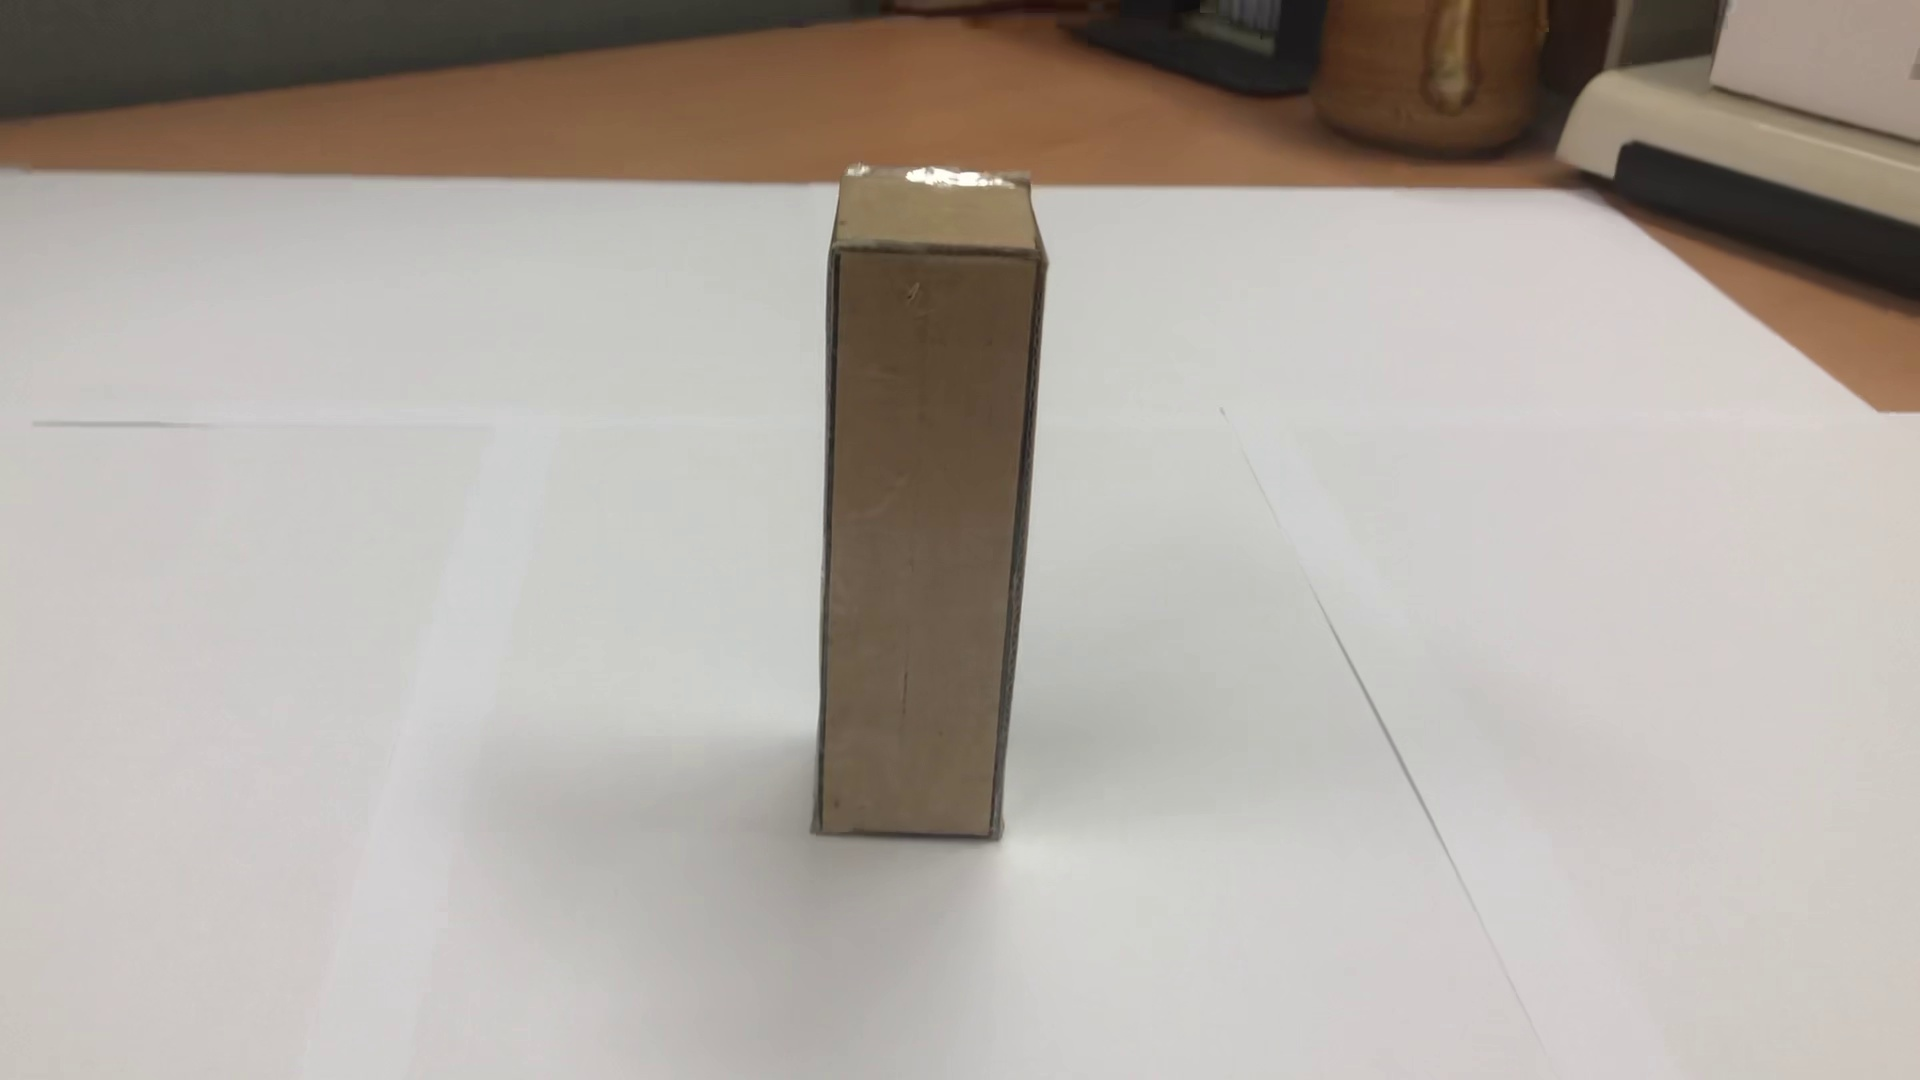box: (767, 138, 1093, 881)
